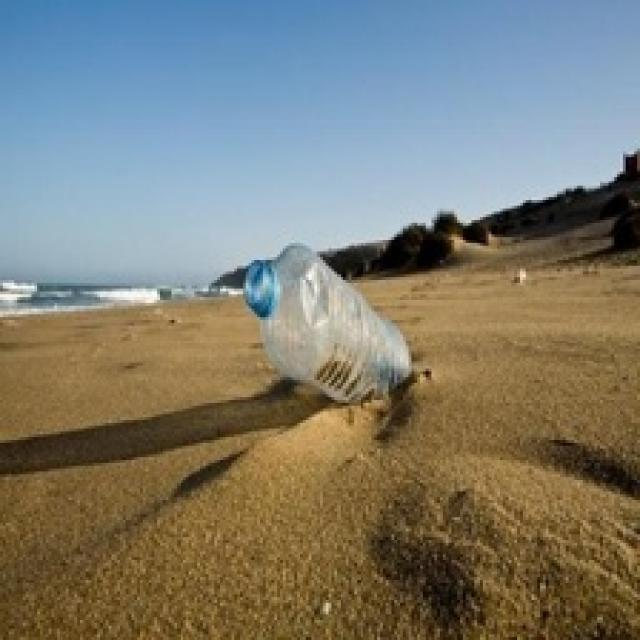Plastic: (235, 240, 417, 402)
